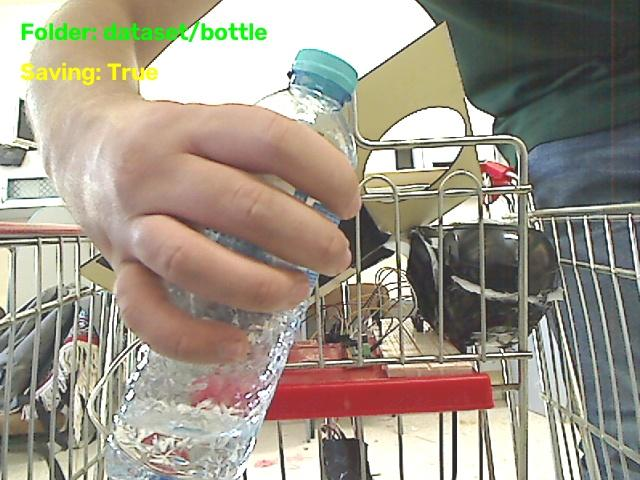Bottle: (107, 287, 307, 479), (258, 50, 356, 166)
can: (144, 156, 347, 275), (169, 108, 357, 217), (127, 216, 316, 318)
